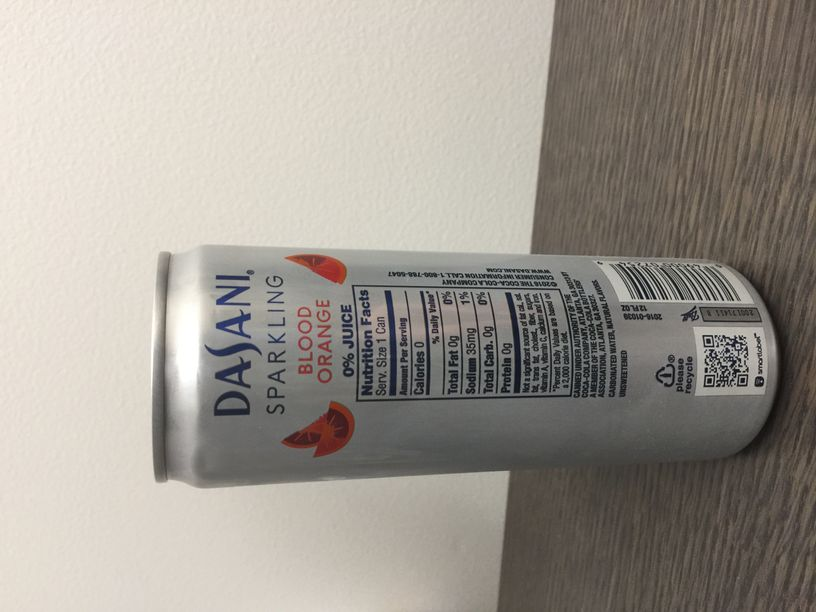blood_orange: (152, 244, 779, 490)
